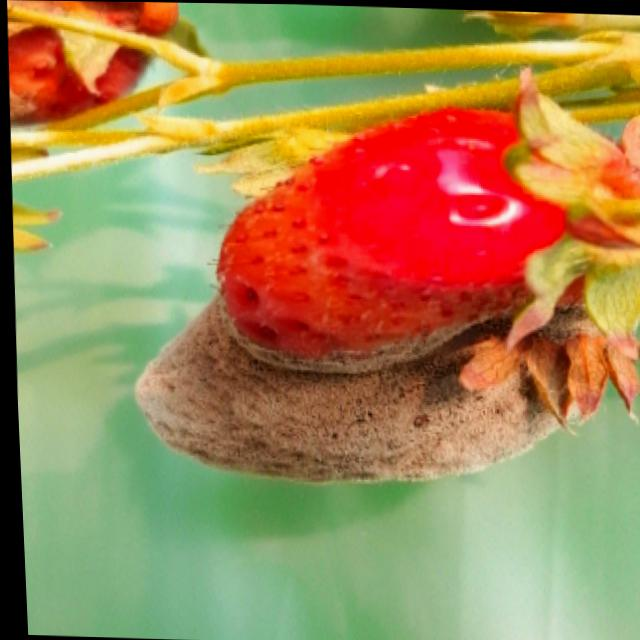Gray Mold: (132, 279, 617, 486), (210, 105, 583, 373)
